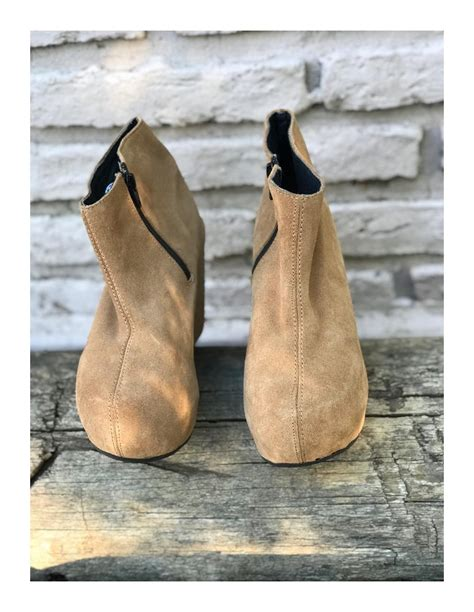gamuza: (73, 109, 368, 467)
